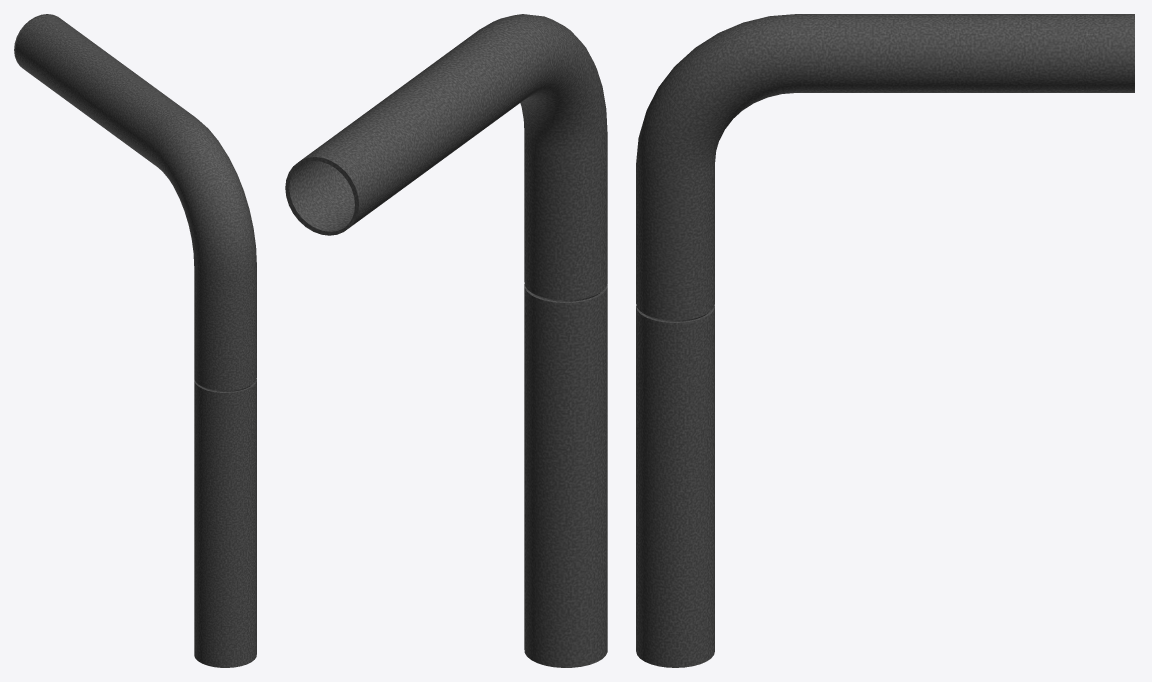
The model's file is spout_2.obj.
3 renders of one model, left to right at view 1: azimuth 30°, elevation 25°; view 2: azimuth 150°, elevation 25°; view 3: azimuth 270°, elevation 25°, orthographic. The views are drawn at different scales.
Bounding box in the file's own units: 0.0359 × 0.3179 × 0.2282.
1 material, 1 textured.
